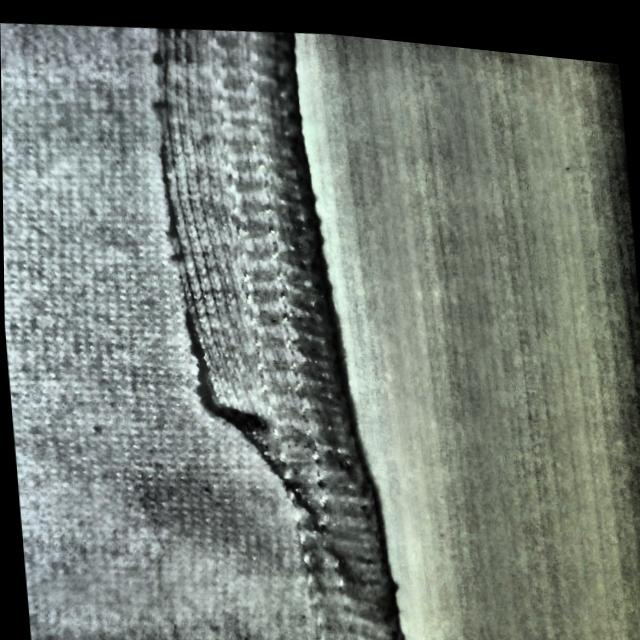seam: (95, 9, 331, 483)
